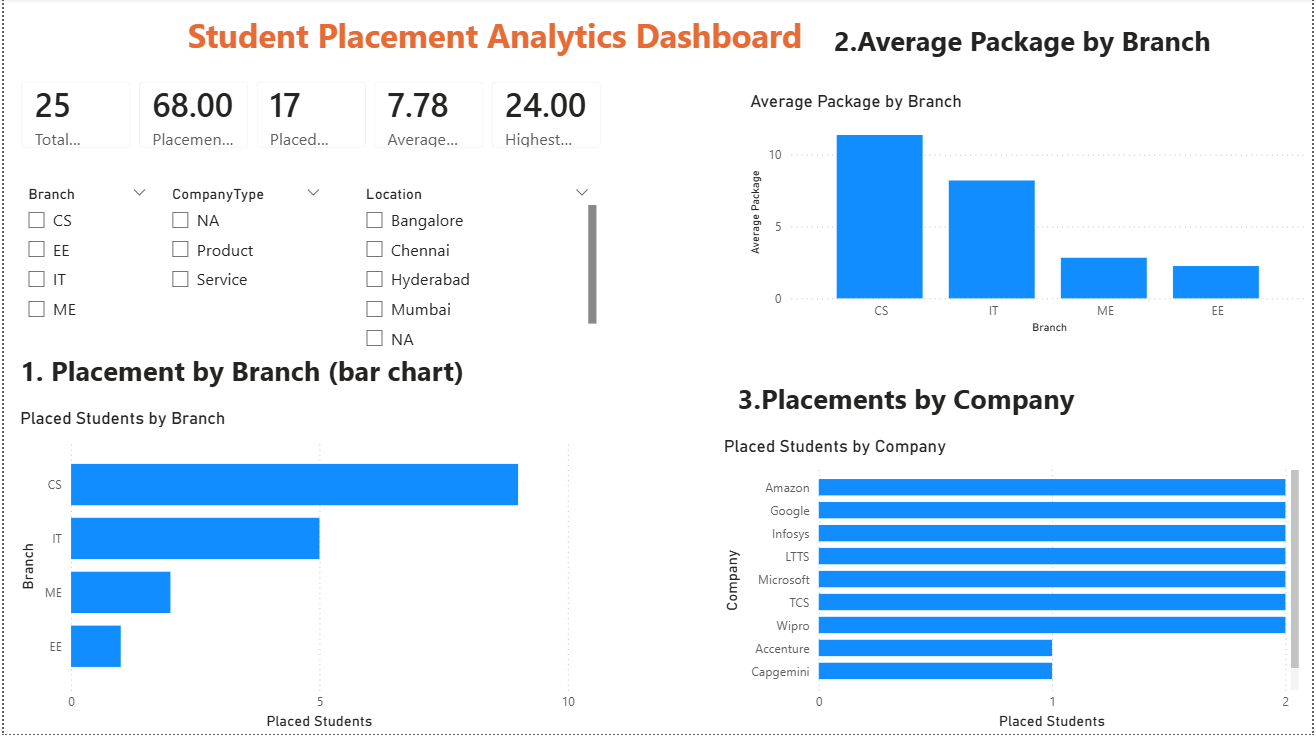

The dashboard page shown, as its layout file describes it:
{"tool":"powerbi","page":{"name":"Page 1","canvas":[1280,720],"ordinal":0},"visuals":[{"type":"cardVisual","fields":{"Data":["Raw_Data.Total Students","Raw_Data.Placement Rate","Raw_Data.Placed Students","Raw_Data.Average Package","Raw_Data.Highest Package"]},"box":[0,64.8,601.6,99],"z":0},{"type":"clusteredBarChart","fields":{"Category":["Raw_Data.Branch"],"Y":["Raw_Data.Placed Students"]},"box":[11,401.1,552.7,319.2],"z":1},{"type":"textbox","box":[11,341.2,475.7,59.9],"z":3},{"type":"textbox","box":[807.1,18.3,473.2,72.1],"z":4},{"type":"columnChart","fields":{"Category":["Raw_Data.Branch"],"Y":["Raw_Data.Average Package"]},"box":[725.1,90.5,555.2,243.3],"z":5},{"type":"textbox","box":[712.9,368.1,567.4,59.9],"z":6},{"type":"barChart","fields":{"Category":["Raw_Data.Company"],"Y":["Raw_Data.Placed Students"]},"box":[699.5,428,572.3,292.3],"z":7},{"type":"slicer","fields":{"Values":["Raw_Data.Branch"]},"box":[11,178.5,140.6,155.3],"z":8},{"type":"slicer","fields":{"Values":["Raw_Data.CompanyType"]},"box":[151.6,178.5,170,155.3],"z":9},{"type":"slicer","fields":{"Values":["Raw_Data.Location"]},"box":[341.2,178.5,243.3,171.2],"z":10},{"type":"textbox","box":[174.9,9.8,622.4,55],"z":11}]}

Visuals, with their boxes in screenshot pixels (x1, y1, x2, y2), scaled from the page's 1280x720 canvas onto the 1316x737 screenshot:
cardVisual - Raw_Data.Total Students x Raw_Data.Placement Rate: x1=0, y1=66, x2=619, y2=168
clusteredBarChart - Raw_Data.Branch x Raw_Data.Placed Students: x1=11, y1=411, x2=580, y2=736
textbox: x1=11, y1=349, x2=500, y2=411
textbox: x1=830, y1=19, x2=1315, y2=93
columnChart - Raw_Data.Branch x Raw_Data.Average Package: x1=745, y1=93, x2=1315, y2=342
textbox: x1=733, y1=377, x2=1315, y2=438
barChart - Raw_Data.Company x Raw_Data.Placed Students: x1=719, y1=438, x2=1308, y2=736
slicer - Raw_Data.Branch: x1=11, y1=183, x2=156, y2=342
slicer - Raw_Data.CompanyType: x1=156, y1=183, x2=331, y2=342
slicer - Raw_Data.Location: x1=351, y1=183, x2=601, y2=358
textbox: x1=180, y1=10, x2=820, y2=66
